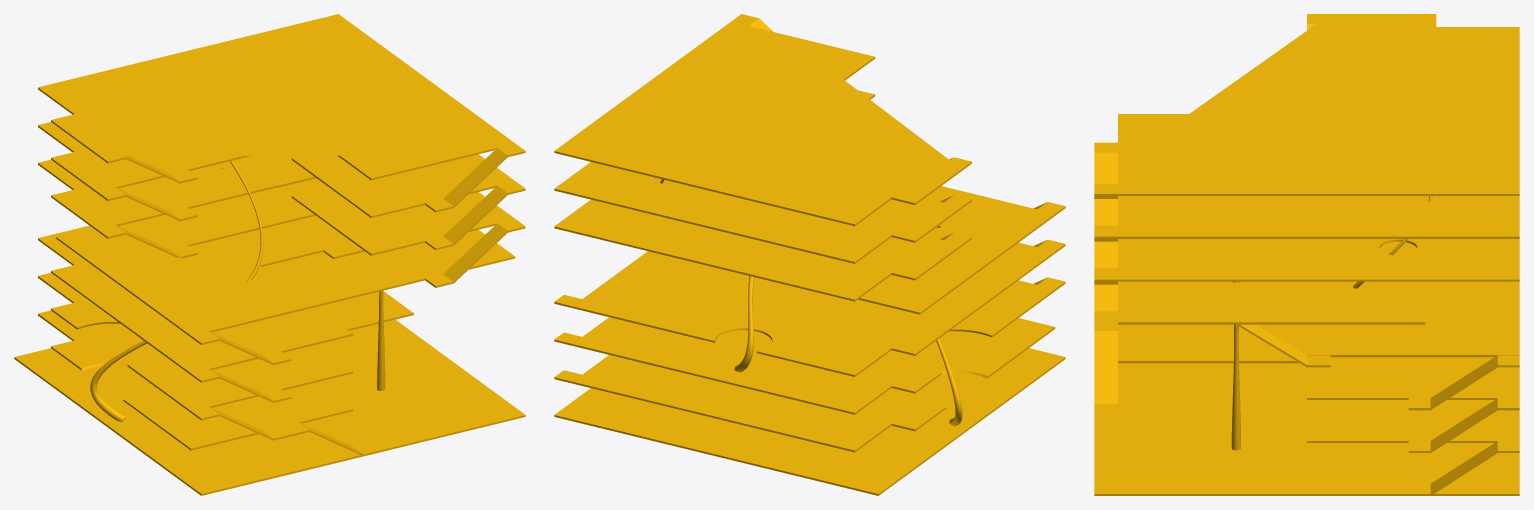
3 views of the same model, side by side, from view 1: azimuth 30°, elevation 25°; view 2: azimuth 150°, elevation 25°; view 3: azimuth 270°, elevation 25° (orthographic). The views are drawn at different scales.
Visible parts, largest first — view 1: LEVEL, LEVEL Level_3, STAIRS, firepole; view 2: LEVEL, LEVEL Level_3, STAIRS, firepole; view 3: LEVEL, LEVEL Level_3, STAIRS, firepole.
Part boxes in pixels (x1=…): LEVEL: x1=14, y1=14, x2=525, y2=495; LEVEL Level_3: x1=38, y1=216, x2=413, y2=450; STAIRS: x1=97, y1=143, x2=525, y2=455; firepole: x1=90, y1=167, x2=385, y2=421; LEVEL: x1=554, y1=21, x2=1065, y2=495; LEVEL Level_3: x1=572, y1=227, x2=1055, y2=452; STAIRS: x1=554, y1=14, x2=1065, y2=383; firepole: x1=734, y1=276, x2=962, y2=426; LEVEL: x1=1094, y1=14, x2=1519, y2=495; LEVEL Level_3: x1=1118, y1=281, x2=1519, y2=442; STAIRS: x1=1094, y1=14, x2=1519, y2=495; firepole: x1=1231, y1=281, x2=1240, y2=450.
Bounding box in the file's own units: 90.92 × 70.91 × 90.
